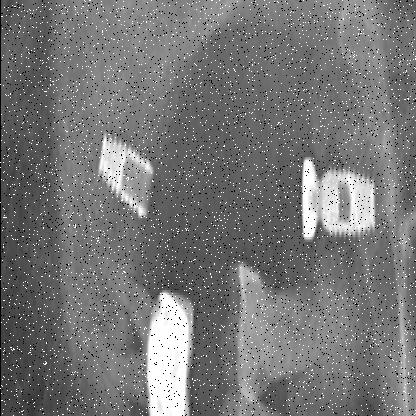Bicon: (307, 164, 383, 244), (93, 140, 155, 224)
